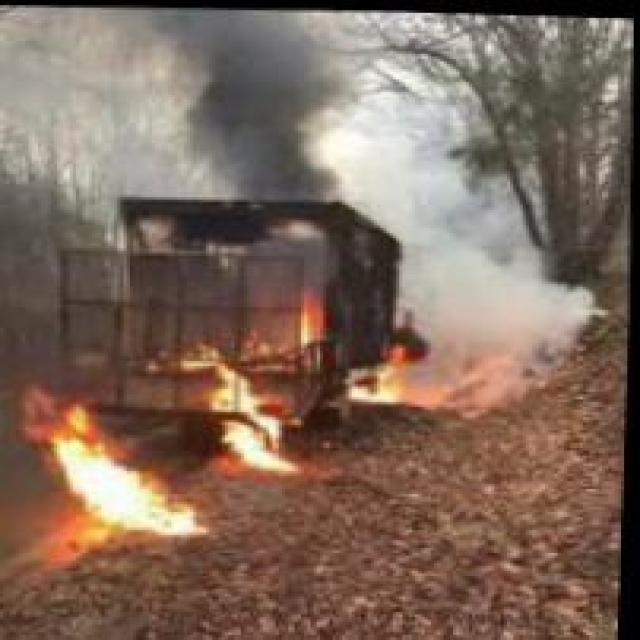Fire: (6, 382, 219, 558), (174, 341, 310, 478), (332, 322, 443, 418), (276, 286, 352, 341)
Smoke: (85, 2, 384, 204), (393, 159, 624, 338)
